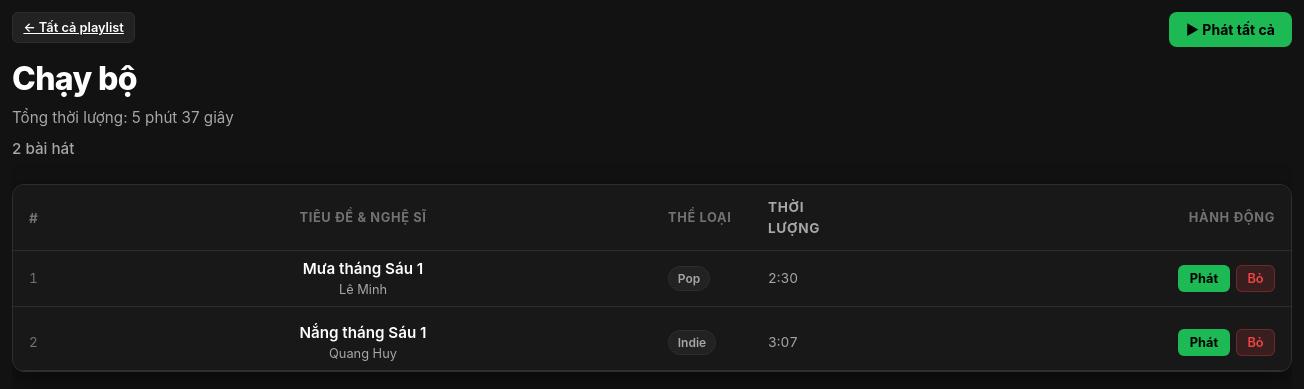
Scenario: Kiểm thử component PlaylistDetailPage › bấm nút Bỏ thì xóa bài hát khỏi playlist
Click the button "Bỏ" in the row of "2:30" at (1256, 279), box [1236,265,1275,292]
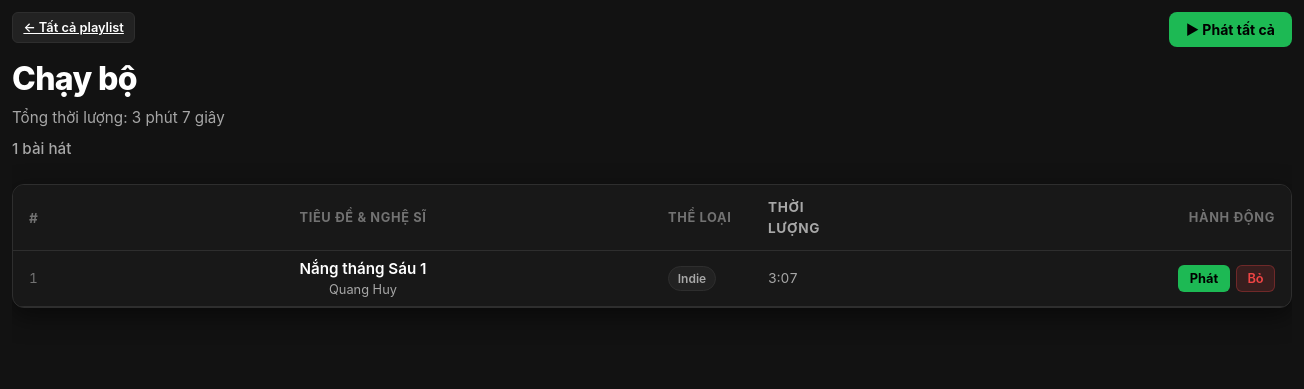
Expected: the text "Nắng tháng Sáu 1" is shown, [300,258,427,280]
Expected: the text "Mưa tháng Sáu 1" is gone
